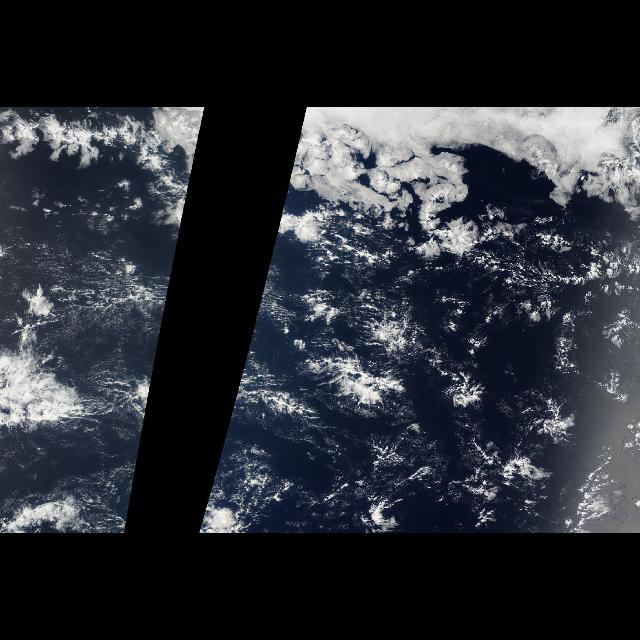Flower: (278, 278, 446, 438)
Sugar: (12, 230, 180, 426)
